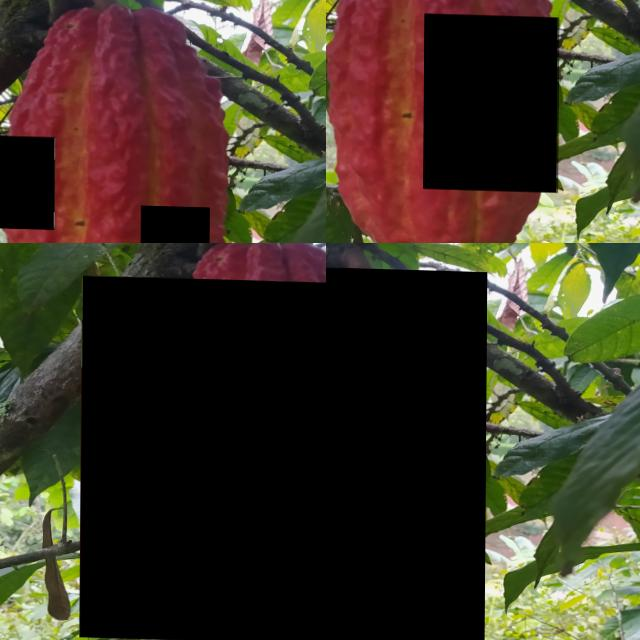Monilia: (424, 12, 559, 189)
Sana: (80, 274, 326, 640), (326, 263, 487, 640), (0, 134, 55, 228), (140, 203, 210, 243)
